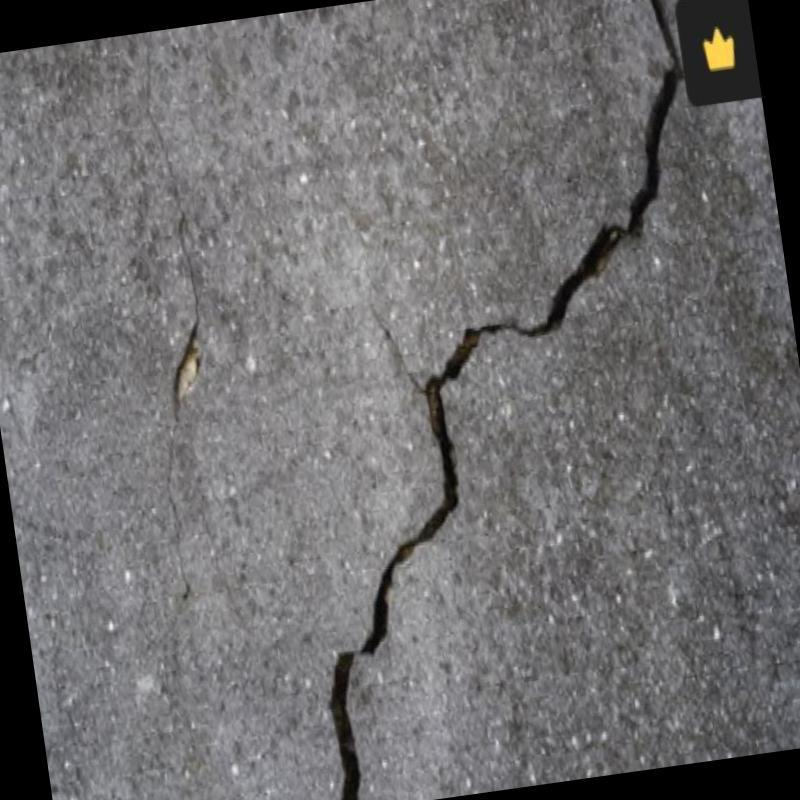pothole: (330, 0, 680, 800)
